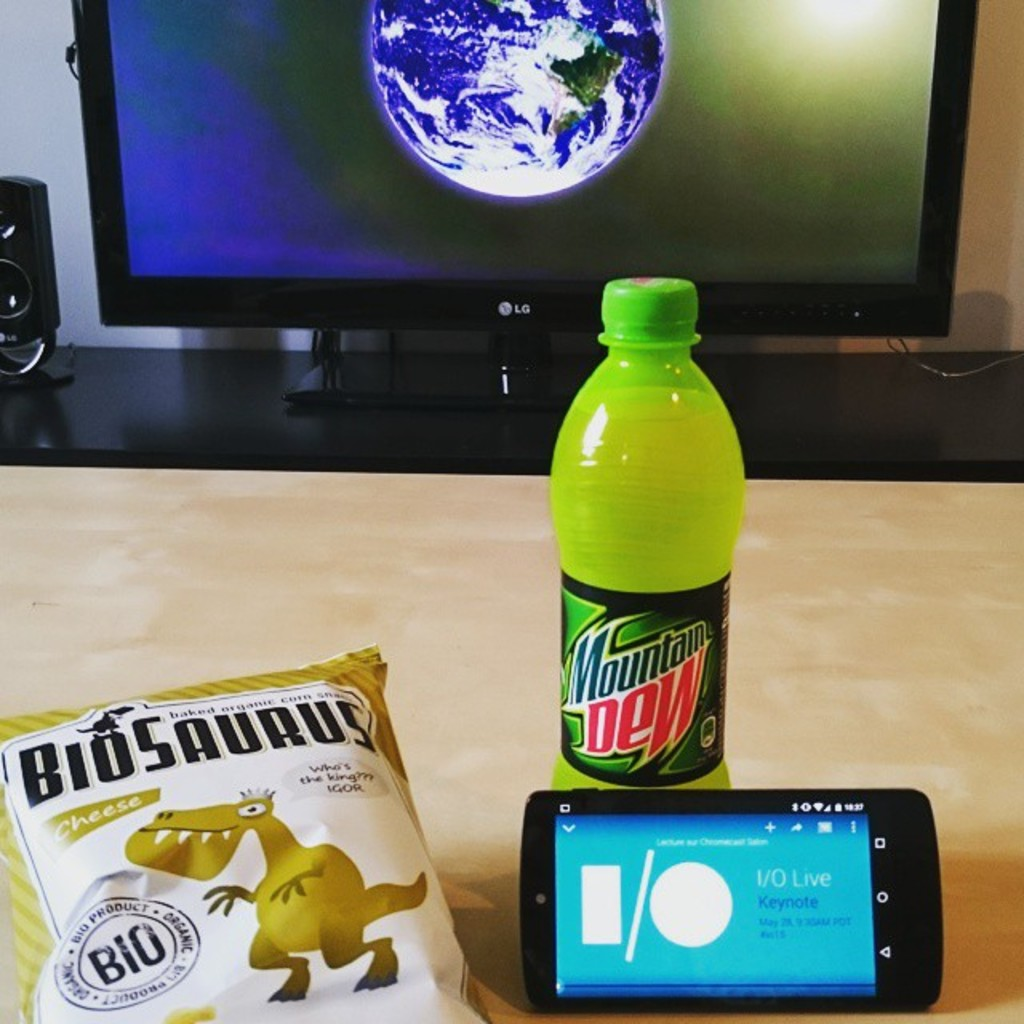Mobile-phone: (518, 787, 942, 1016)
